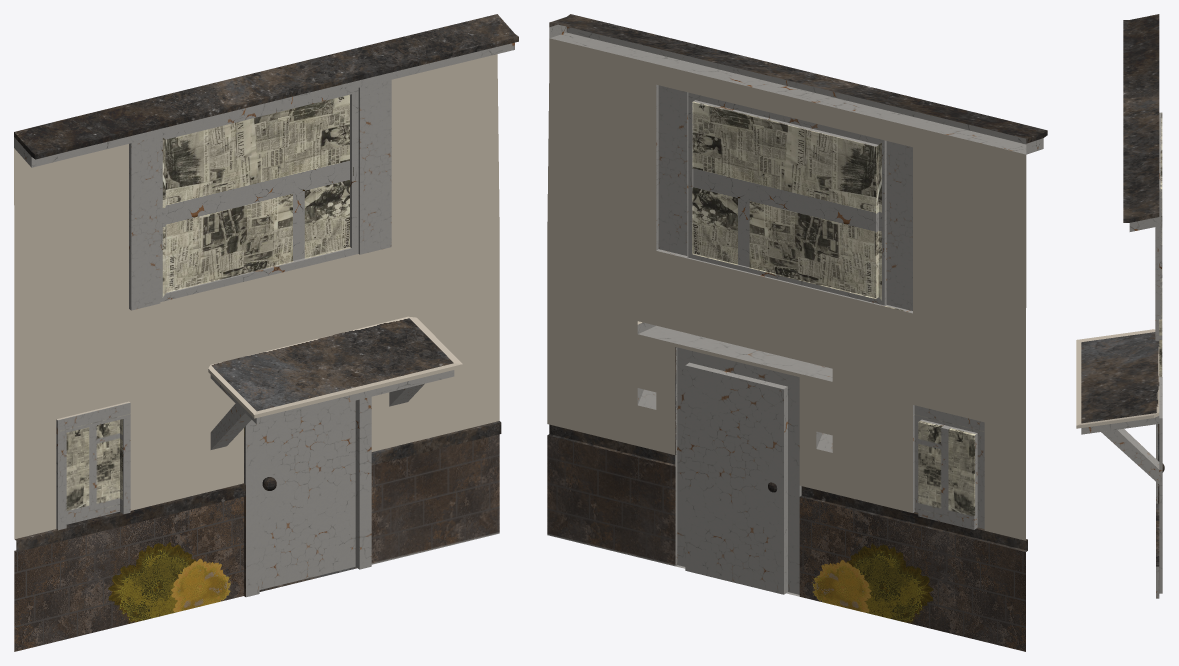
File: AriC_TrimSheetBuilding.fbx
The picture shows the model from 3 angles, left to right: view 1: azimuth 30°, elevation 25°; view 2: azimuth 150°, elevation 25°; view 3: azimuth 270°, elevation 25°; orthographic projection. The views are drawn at different scales.
Parts seen in each view (by area): view 1: Plane; view 2: Plane; view 3: Plane.
Part boxes in pixels (x1,y1,x2,y2): Plane: (14, 14, 518, 651); Plane: (547, 14, 1047, 651); Plane: (1076, 14, 1162, 598).
Bounding box in the file's own units: 243 × 249 × 45.61.
Materials: 1 (1 with a texture image).
